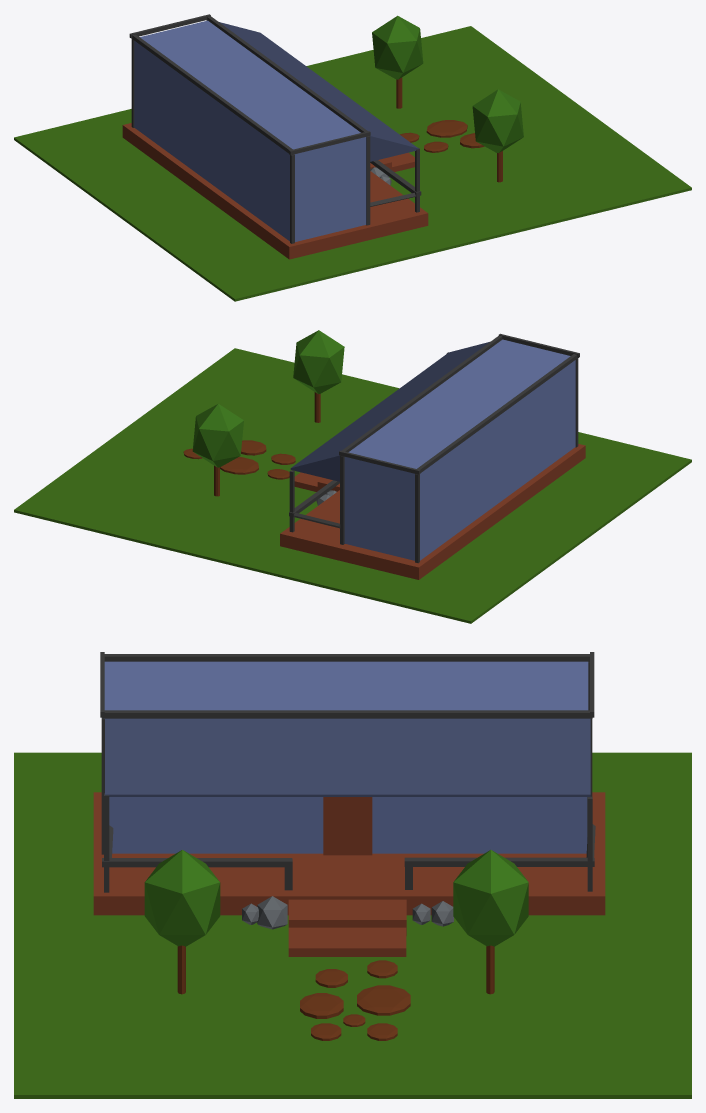
The model's file is house.glb.
3 renders of one model, top to bottom at view 1: azimuth 30°, elevation 25°; view 2: azimuth 150°, elevation 25°; view 3: azimuth 270°, elevation 25°, orthographic. The views are drawn at different scales.
Visible parts, largest first — view 1: Cube, Cube.002, Cube.001, Cube.013, Icosphere.001, Icosphere, Cube.018, Cube.019, Cylinder.002, Cube.020, Cube.021, Cube.014 (+1 smaller); view 2: Cube, Cube.002, Cube.001, Cube.013, Icosphere, Icosphere.001, Cube.018, Cube.019, Cylinder.002, Cube.021; view 3: Cube, Cube.002, Cube.013, Cube.001, Icosphere, Icosphere.001, Cube.019, Cube.018, Cube.005, Cube.003, Cube.022, Cube.004 (+4 smaller).
Boxes of the visible parts, x1=… form: Cube: x1=14, y1=26, x2=691, y2=301; Cube.002: x1=134, y1=20, x2=366, y2=241; Cube.001: x1=122, y1=123, x2=428, y2=259; Cube.013: x1=219, y1=22, x2=418, y2=161; Icosphere.001: x1=372, y1=15, x2=423, y2=79; Icosphere: x1=472, y1=89, x2=523, y2=152; Cube.018: x1=132, y1=34, x2=294, y2=155; Cube.019: x1=206, y1=16, x2=369, y2=136; Cylinder.002: x1=426, y1=120, x2=467, y2=137; Cube.020: x1=289, y1=131, x2=370, y2=155; Cube.021: x1=129, y1=14, x2=210, y2=38; Cube.014: x1=290, y1=154, x2=294, y2=243; Cube: x1=14, y1=348, x2=691, y2=623; Cube.002: x1=344, y1=339, x2=575, y2=560; Cube.001: x1=280, y1=444, x2=585, y2=579; Cube.013: x1=290, y1=342, x2=489, y2=481; Icosphere: x1=293, y1=330, x2=344, y2=393; Icosphere.001: x1=192, y1=403, x2=243, y2=467; Cube.018: x1=416, y1=354, x2=577, y2=474; Cube.019: x1=340, y1=335, x2=502, y2=456; Cylinder.002: x1=220, y1=457, x2=258, y2=474; Cube.021: x1=339, y1=450, x2=420, y2=474; Cube: x1=14, y1=752, x2=691, y2=1098; Cube.002: x1=104, y1=661, x2=588, y2=853; Cube.013: x1=105, y1=718, x2=590, y2=796; Cube.001: x1=93, y1=792, x2=605, y2=915; Icosphere: x1=144, y1=850, x2=220, y2=946; Icosphere.001: x1=453, y1=850, x2=528, y2=946; Cube.019: x1=102, y1=710, x2=592, y2=718; Cube.018: x1=104, y1=654, x2=589, y2=662; Cube.005: x1=288, y1=927, x2=406, y2=956; Cube.003: x1=288, y1=899, x2=406, y2=935; Cube.022: x1=323, y1=797, x2=372, y2=855; Cube.004: x1=102, y1=858, x2=292, y2=867.
Size of the model in its own units: 33.24 by 7.76 by 27.83.
